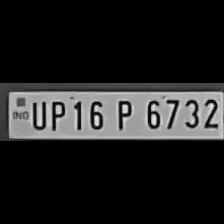1: (67, 97, 85, 131)
2: (200, 95, 218, 129)
3: (181, 95, 199, 129)
6: (84, 97, 107, 131), (139, 96, 161, 130)
7: (162, 96, 180, 130)
P: (109, 96, 134, 132), (46, 97, 66, 131)
U: (28, 98, 46, 130)
